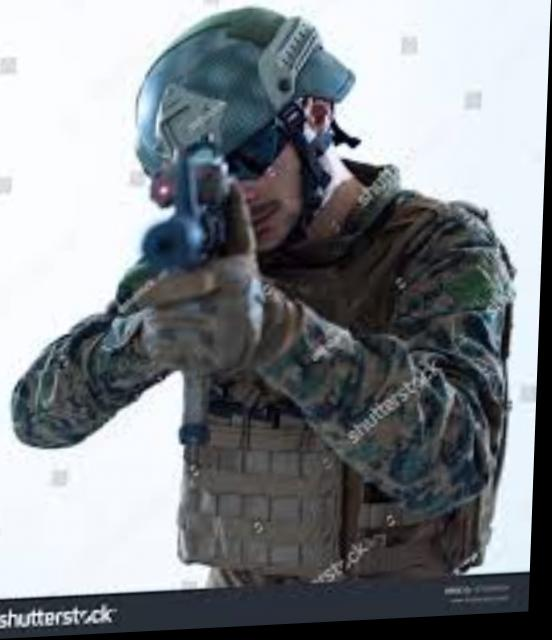other: (32, 15, 512, 595)
